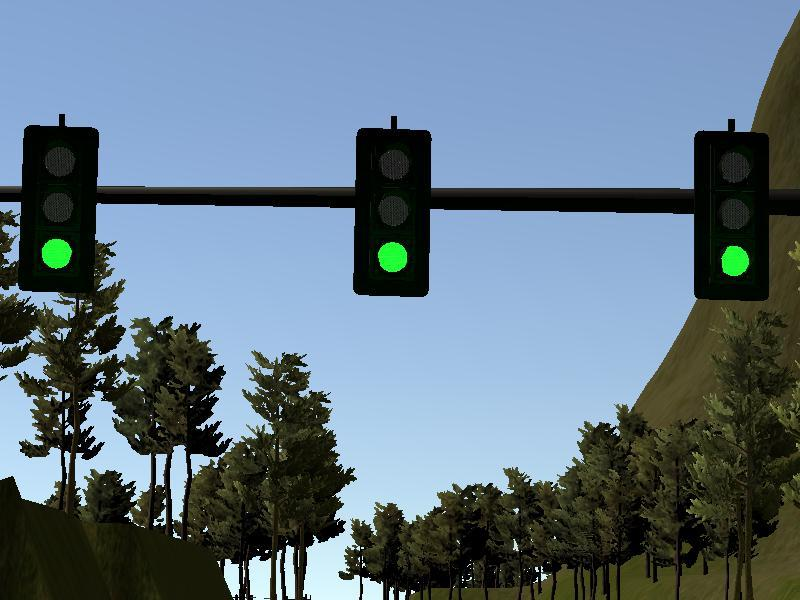Green: (355, 131, 428, 295), (695, 134, 765, 296), (24, 125, 92, 289)
